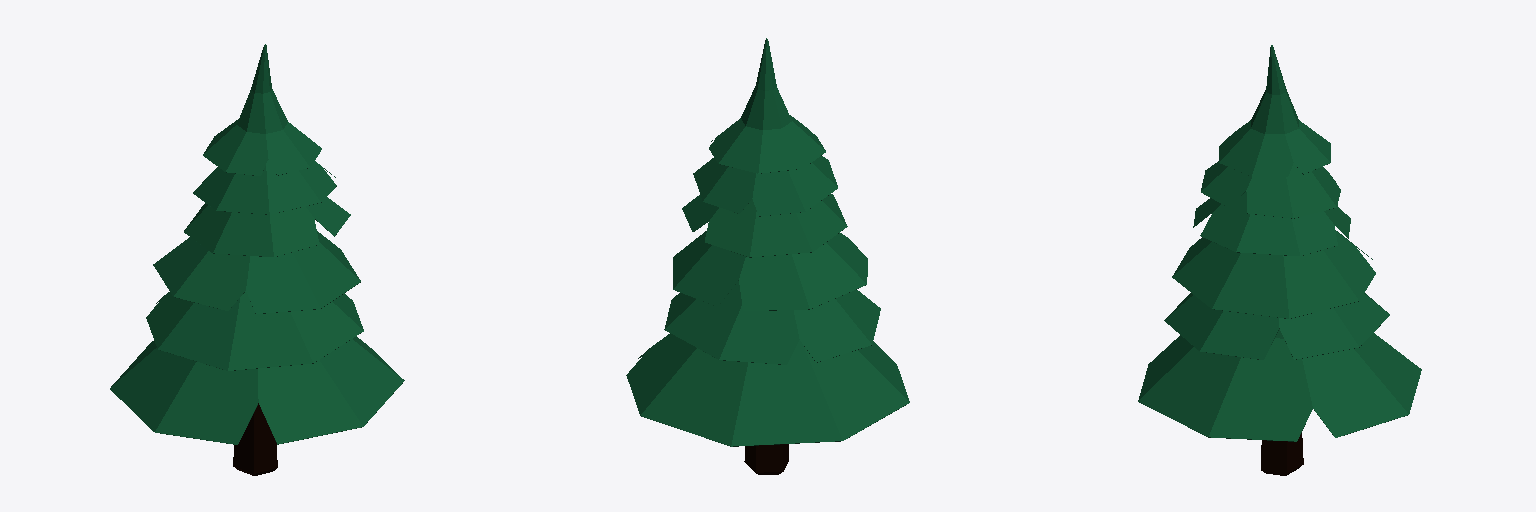
The model's file is tree_lvl_23.obj.
3 renders of one model, left to right at view 1: azimuth 30°, elevation 25°; view 2: azimuth 150°, elevation 25°; view 3: azimuth 270°, elevation 25°, orthographic.
Bounding box in the file's own units: 7.51 × 12.54 × 7.58.